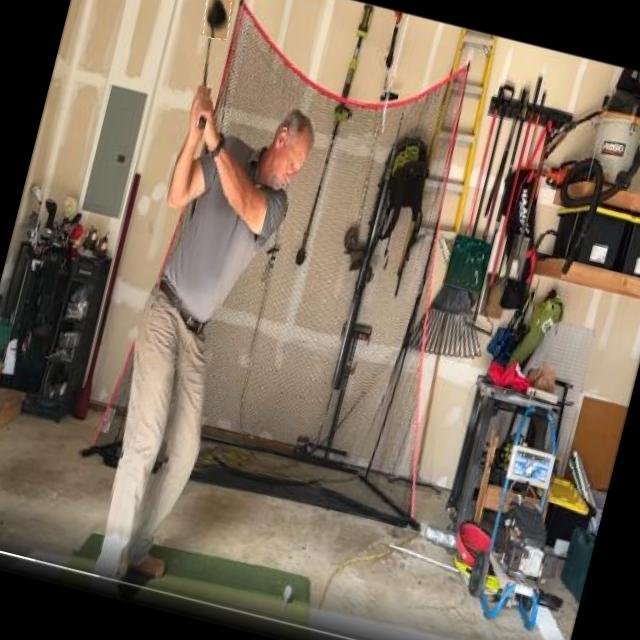club head: (199, 0, 235, 40)
